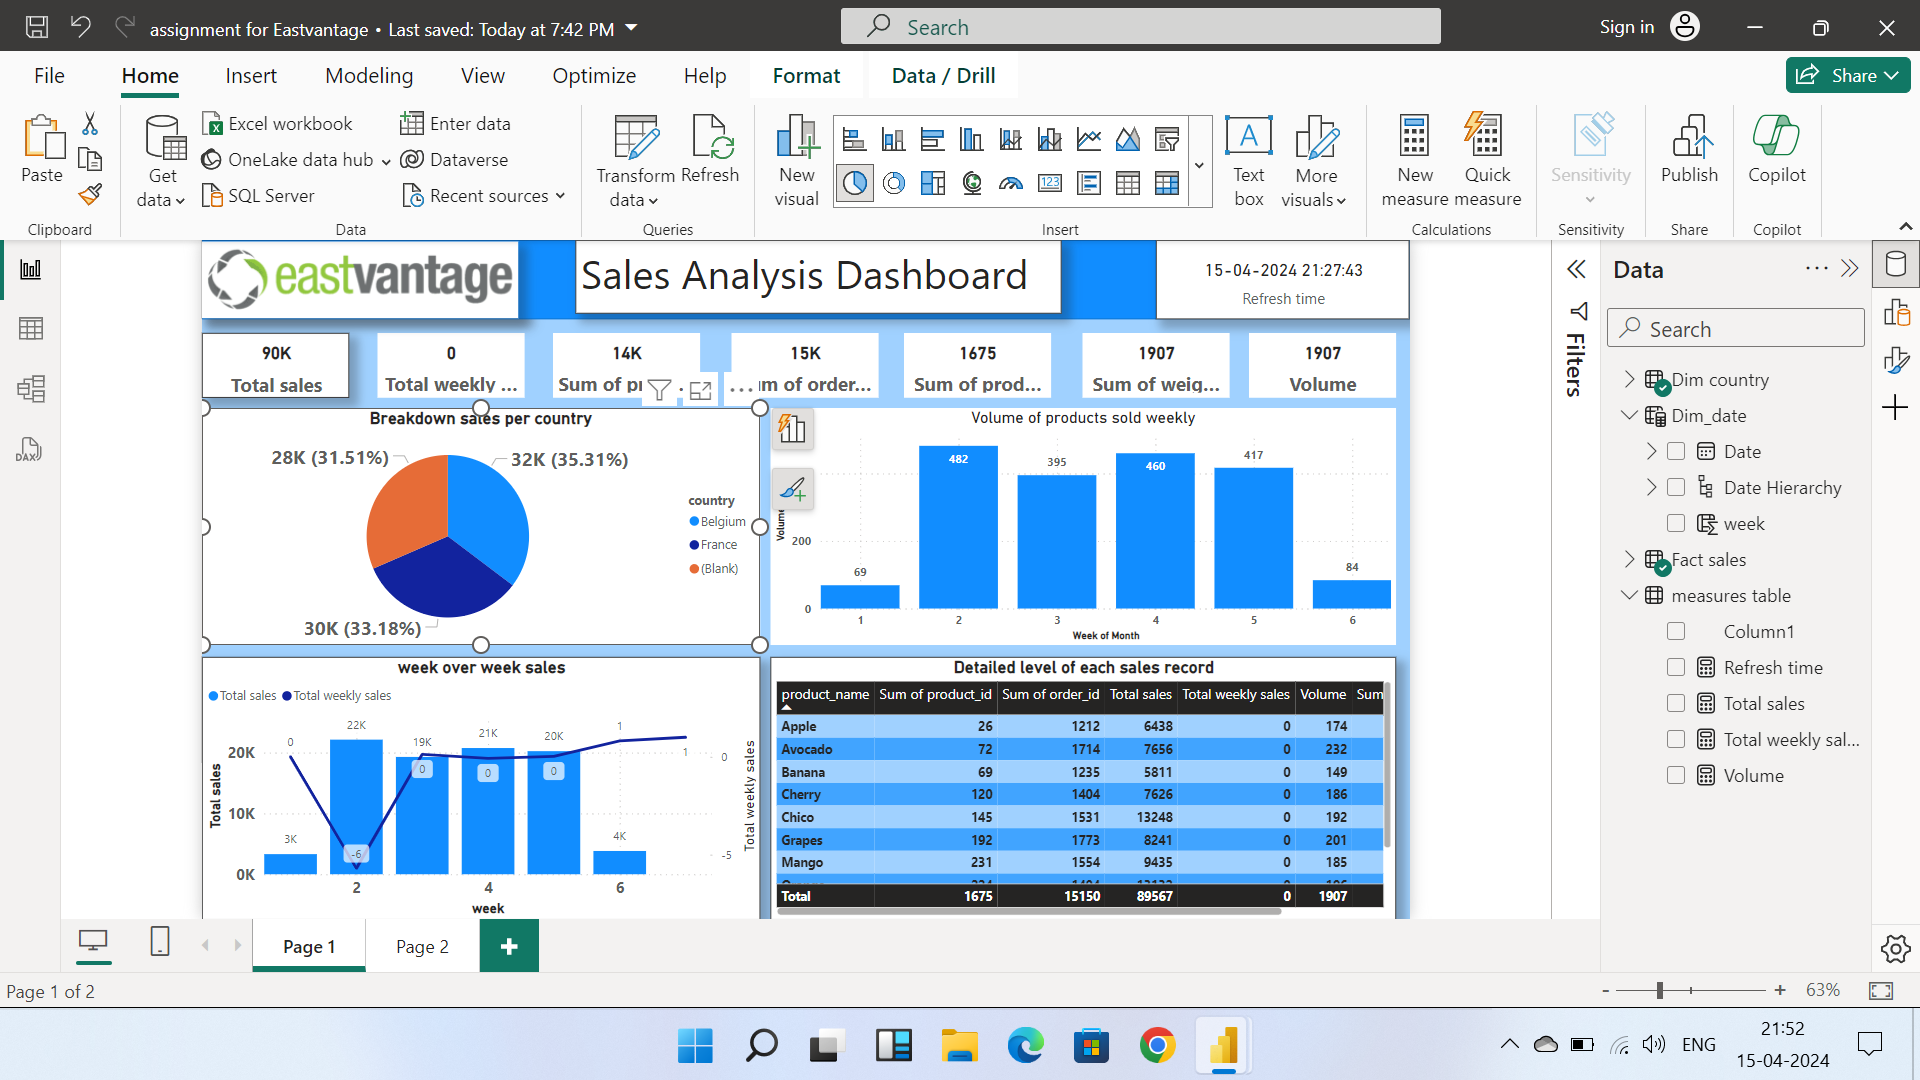

The page's visual inventory and layout, read from the dashboard file:
{"tool":"powerbi","page":{"name":"Page 1","canvas":[1280,720],"ordinal":0},"visuals":[{"type":"image","box":[0,0,342,82.7],"z":0},{"type":"shape","box":[0,0,1280.4,84.3],"z":1000},{"type":"textbox","box":[396.1,0,515.4,77.9],"z":2000},{"type":"card","fields":{"Values":["measures table.Refresh time"]},"box":[1011.6,0,268.8,84.3],"z":3000},{"type":"card","fields":{"Values":["measures table.Total sales"]},"box":[0,98.6,155.9,68.4],"z":4000},{"type":"card","fields":{"Values":["measures table.Total weekly sales"]},"box":[186.1,98.6,155.9,68.4],"z":5000},{"type":"card","fields":{"Values":["Sum(Fact sales.price_per_kg)"]},"box":[372.2,98.6,155.9,68.4],"z":6000},{"type":"card","fields":{"Values":["Sum(Fact sales.order_id)"]},"box":[561.5,98.6,155.9,68.4],"z":7000},{"type":"card","fields":{"Values":["Sum(Fact sales.product_id)"]},"box":[744.4,98.6,155.9,68.4],"z":8000},{"type":"card","fields":{"Values":["Sum(Fact sales.weight_kg)"]},"box":[933.7,98.6,155.9,68.4],"z":9000},{"type":"card","fields":{"Values":["measures table.Volume"]},"box":[1110.2,98.6,155.9,68.4],"z":10000},{"type":"pieChart","title":"Breakdown sales per country ","fields":{"Y":["Sum(Fact sales.sales)"],"Category":["Dim country.country"]},"box":[0,178.1,591.7,251.3],"z":11000},{"type":"columnChart","title":"Volume of products sold weekly","fields":{"Category":["Fact sales.Week of Month"],"Y":["measures table.Volume"]},"box":[602.8,178.1,663.3,251.3],"z":12000},{"type":"lineClusteredColumnComboChart","title":"week over week sales","fields":{"Category":["Dim_date.week"],"Y":["measures table.Total sales"],"Y2":["measures table.Total weekly sales"]},"box":[0,442.2,591.7,278.4],"z":13000},{"type":"tableEx","title":"Detailed level of each sales record","fields":{"Values":["Fact sales.product_name","Sum(Fact sales.product_id)","Sum(Fact sales.order_id)","measures table.Total sales","measures table.Total weekly sales","measures table.Volume","Sum(Fact sales.Week of Month)"]},"box":[602.8,442.2,663.3,278.4],"z":14000},{"type":"image","box":[23.9,3.2,318.1,81.1],"z":14001}]}

Visuals, with their boxes on the page's 1280x720 design canvas (x1, y1, x2, y2). These are canvas units, not pixel positions in the 1920x1080 screenshot, which may show the page scaled, cropped or inside an application window:
image: detection(0, 0, 342, 83)
shape: detection(0, 0, 1280, 84)
textbox: detection(396, 0, 912, 78)
card - measures table.Refresh time: detection(1012, 0, 1280, 84)
card - measures table.Total sales: detection(0, 99, 156, 167)
card - measures table.Total weekly sales: detection(186, 99, 342, 167)
card - Sum(Fact sales.price_per_kg): detection(372, 99, 528, 167)
card - Sum(Fact sales.order_id): detection(562, 99, 717, 167)
card - Sum(Fact sales.product_id): detection(744, 99, 900, 167)
card - Sum(Fact sales.weight_kg): detection(934, 99, 1090, 167)
card - measures table.Volume: detection(1110, 99, 1266, 167)
"Breakdown sales per country " pieChart: detection(0, 178, 592, 429)
"Volume of products sold weekly" columnChart: detection(603, 178, 1266, 429)
"week over week sales" lineClusteredColumnComboChart: detection(0, 442, 592, 721)
"Detailed level of each sales record" tableEx: detection(603, 442, 1266, 721)
image: detection(24, 3, 342, 84)
